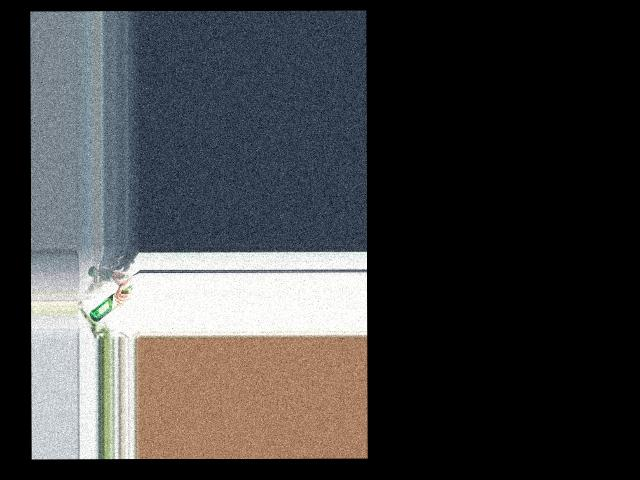beer: (89, 284, 132, 321)
